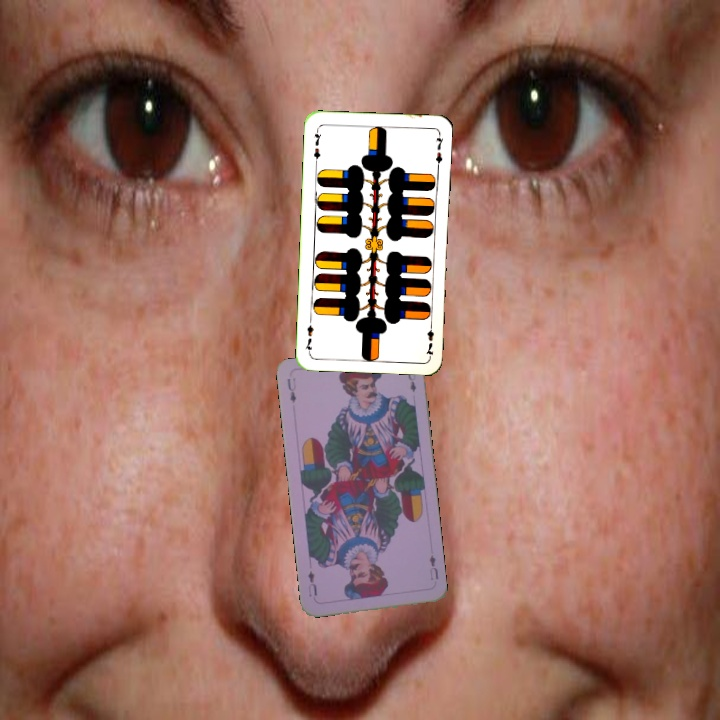E7: (310, 125, 324, 166), (422, 318, 436, 359)
EU: (425, 551, 441, 582), (283, 374, 299, 405)
